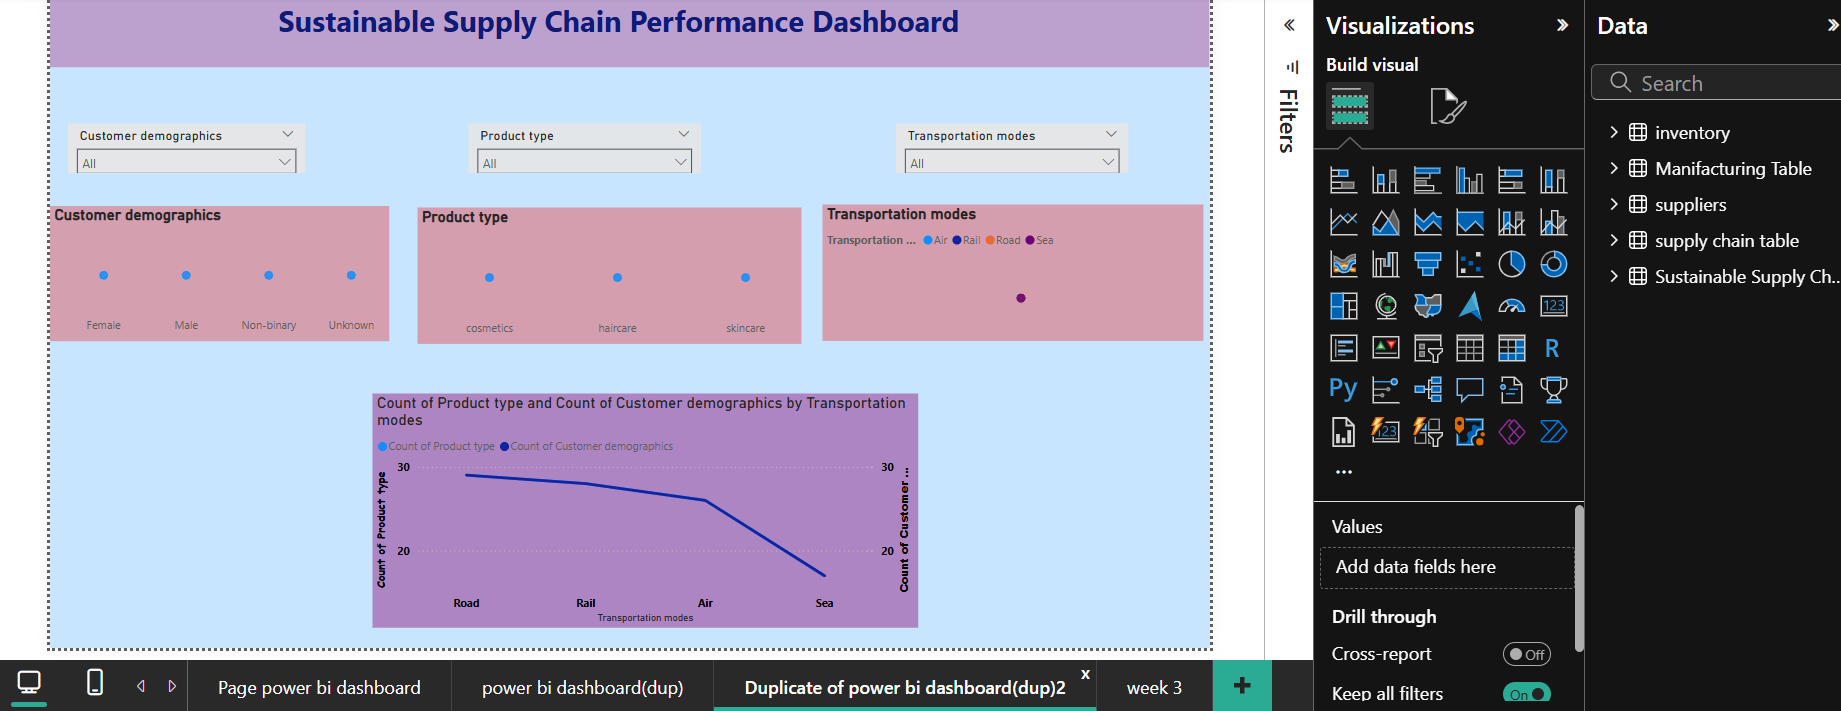

This screenshot's page, from the dashboard's own definition file:
{"tool":"powerbi","page":{"name":"Duplicate of power bi dashboard(dup)2","canvas":[1280,720],"ordinal":2},"visuals":[{"type":"textbox","box":[0,0,1280,78.3],"z":0},{"type":"slicer","fields":{"Values":["supply chain table.Customer demographics"]},"box":[19.9,140.8,261.7,54.7],"z":1000},{"type":"slicer","fields":{"Values":["supply chain table.Product type"]},"box":[462.2,140.8,256.8,54.7],"z":2000},{"type":"slicer","fields":{"Values":["supply chain table.Transportation modes"]},"box":[934.3,140.8,256.8,54.7],"z":3000},{"type":"scatterChart","fields":{"X":["supply chain table.Customer demographics"]},"box":[0,231.9,374.4,149.1],"z":4000},{"type":"scatterChart","fields":{"X":["supply chain table.Product type"]},"box":[405.8,233.6,424.1,150.7],"z":5000},{"type":"scatterChart","fields":{"Series":["supply chain table.Transportation modes"]},"box":[853.1,230.3,420.7,150.7],"z":6000},{"type":"lineChart","fields":{"Category":["supply chain table.Transportation modes"],"Y":["CountNonNull(supply chain table.Product type)"],"Y2":["CountNonNull(supply chain table.Customer demographics)"]},"box":[356.1,439,603,258.4],"z":7000}]}

Visuals, with their boxes on the page's 1280x720 design canvas (x1, y1, x2, y2). These are canvas units, not pixel positions in the 1841x711 screenshot, which may show the page scaled, cropped or inside an application window:
textbox: (0, 0, 1280, 78)
slicer - supply chain table.Customer demographics: (20, 141, 282, 196)
slicer - supply chain table.Product type: (462, 141, 719, 196)
slicer - supply chain table.Transportation modes: (934, 141, 1191, 196)
scatterChart - supply chain table.Customer demographics: (0, 232, 374, 381)
scatterChart - supply chain table.Product type: (406, 234, 830, 384)
scatterChart - supply chain table.Transportation modes: (853, 230, 1274, 381)
lineChart - supply chain table.Transportation modes x CountNonNull(supply chain table.Product type): (356, 439, 959, 697)
